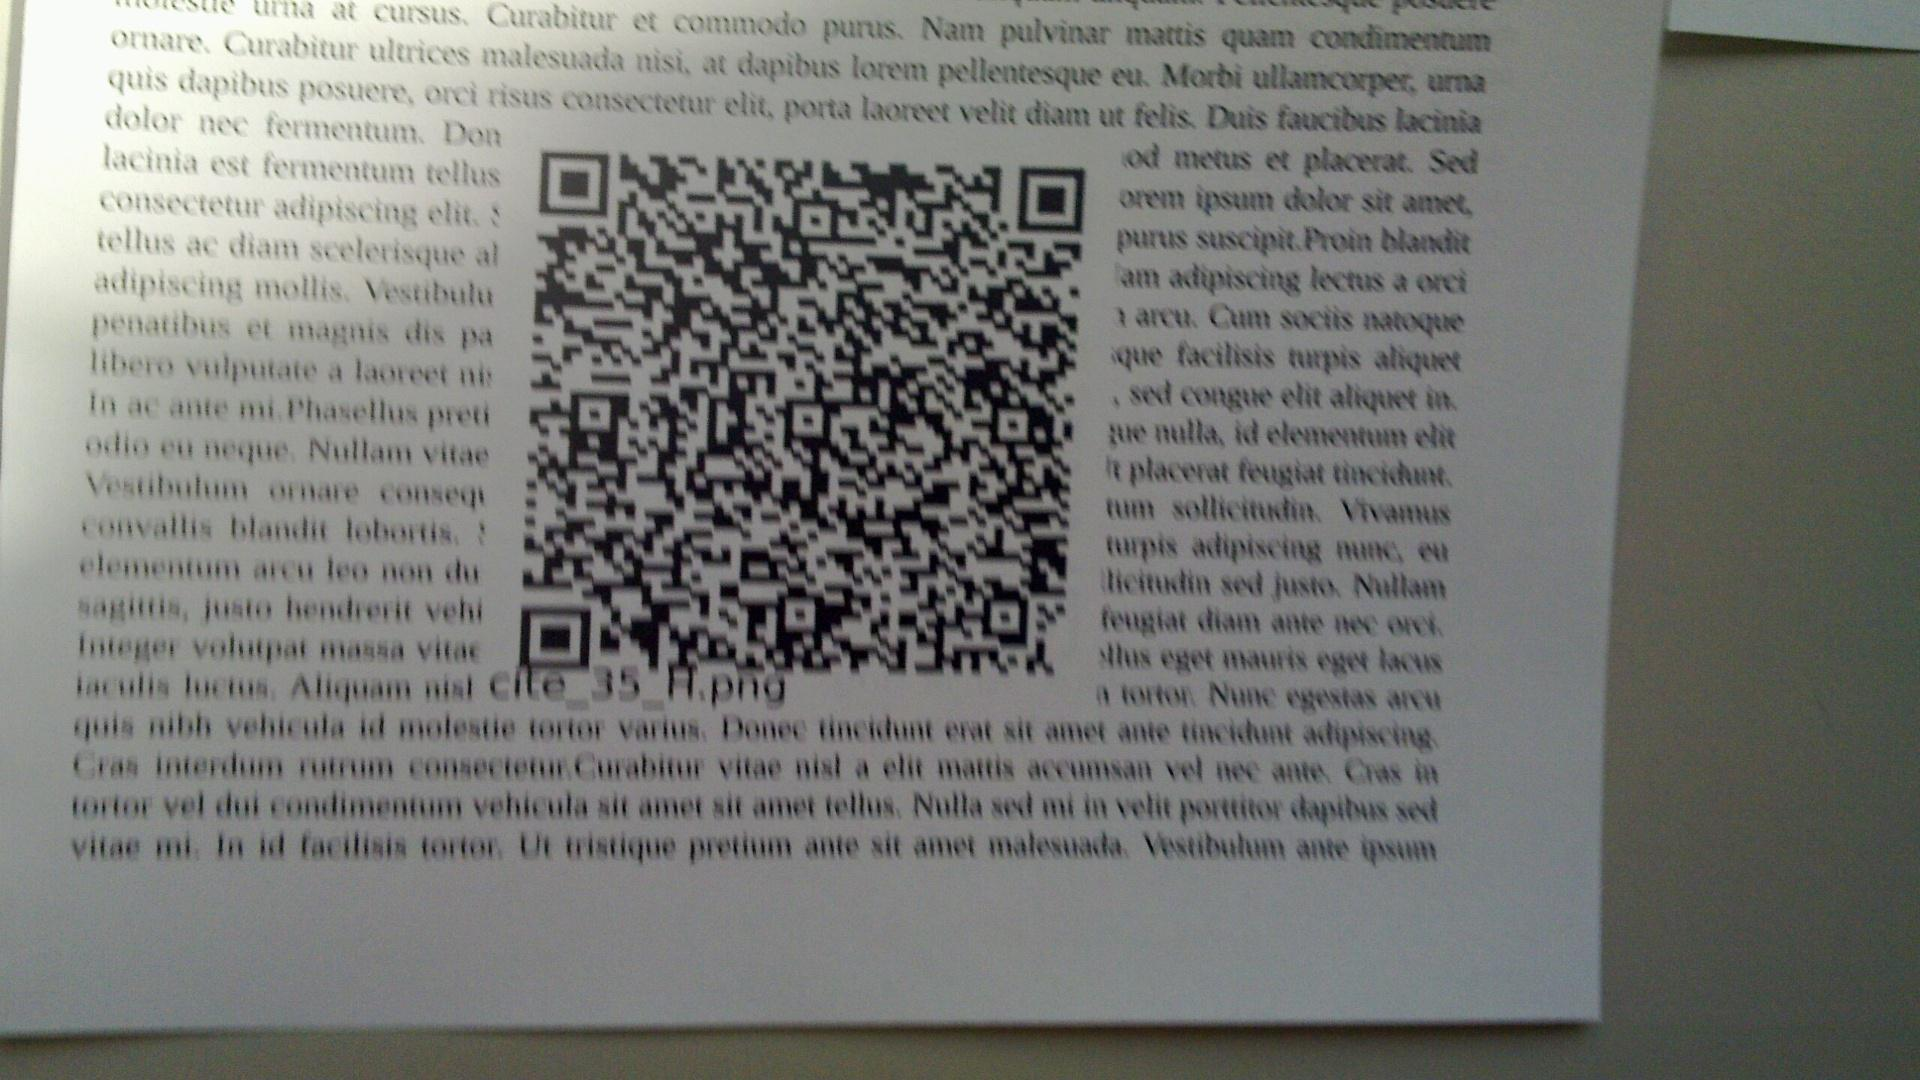Finder pattern: (530, 145, 615, 220), (512, 603, 596, 673), (1011, 162, 1091, 235)
